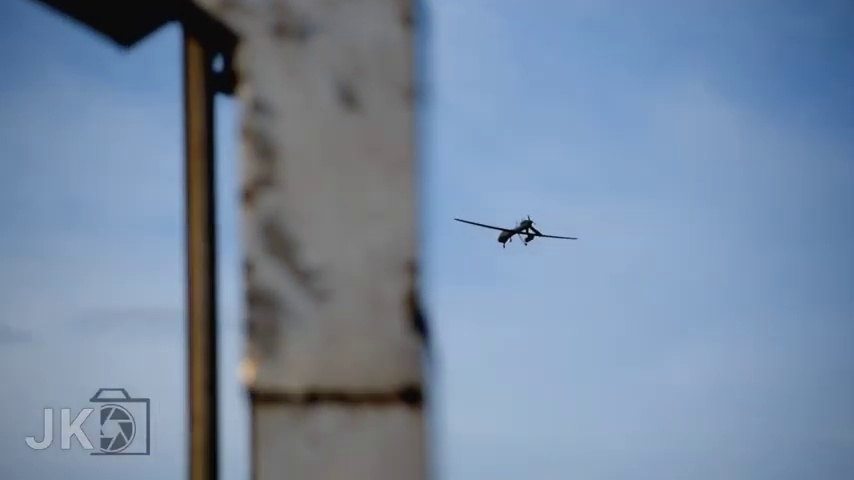military drone: (453, 214, 577, 248)
